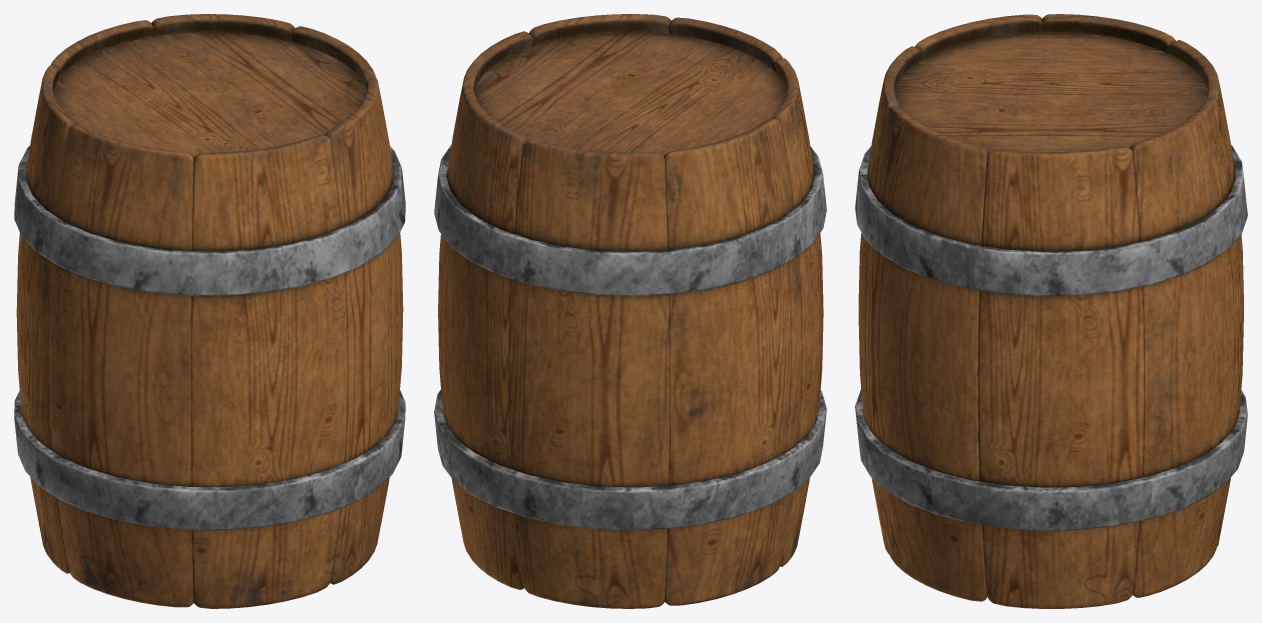
File: barrel.glb
3 views of the same model, side by side, from view 1: azimuth 30°, elevation 25°; view 2: azimuth 150°, elevation 25°; view 3: azimuth 270°, elevation 25° (orthographic).
Visible parts, largest first — view 1: Wood Curves_0, Rings_1, Covers_2; view 2: Wood Curves_0, Rings_1, Covers_2; view 3: Wood Curves_0, Rings_1, Covers_2.
Boxes of the visible parts, bbox=[...] form: Wood Curves_0: bbox=[16, 14, 403, 608]; Rings_1: bbox=[14, 146, 405, 529]; Covers_2: bbox=[53, 32, 366, 157]; Wood Curves_0: bbox=[438, 14, 823, 608]; Rings_1: bbox=[434, 144, 826, 530]; Covers_2: bbox=[474, 32, 787, 156]; Wood Curves_0: bbox=[858, 14, 1243, 608]; Rings_1: bbox=[855, 145, 1247, 530]; Covers_2: bbox=[894, 32, 1207, 152].
Bounding box in the file's own units: 2.34 × 2.99 × 2.34.
Materials: 1 (1 with a texture image).
